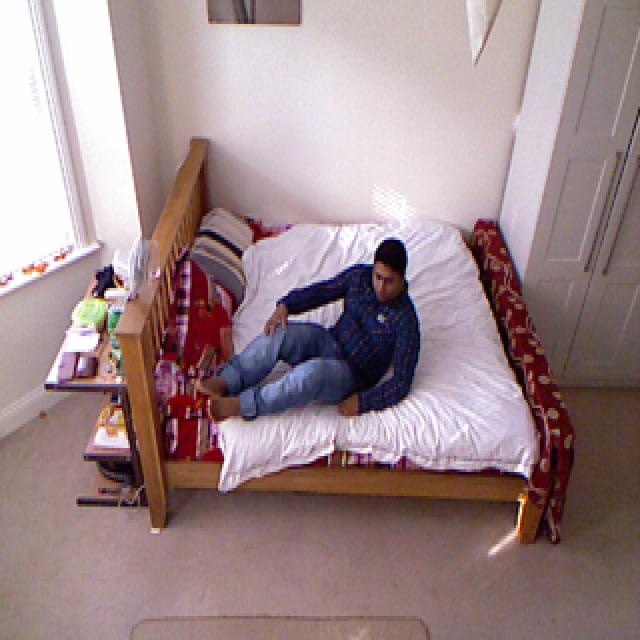lying: (192, 241, 426, 427)
